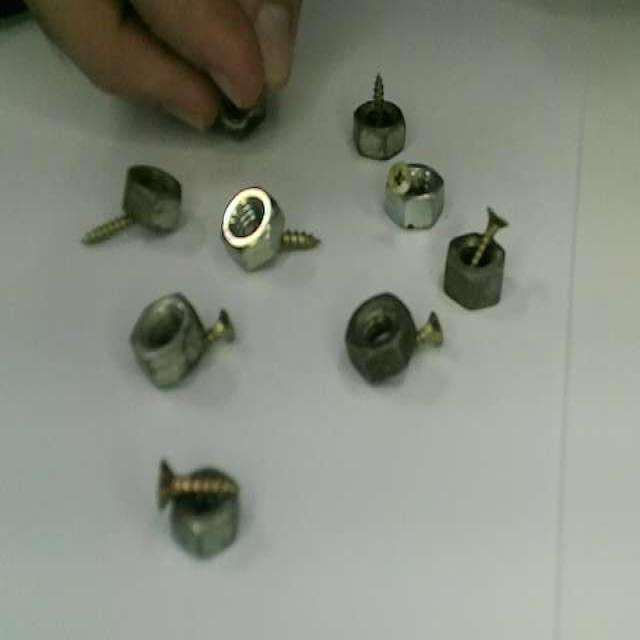Parafuso: (157, 460, 238, 509), (470, 207, 507, 267), (83, 216, 139, 245), (371, 73, 390, 127), (388, 162, 416, 195), (207, 309, 234, 341), (416, 312, 442, 343), (280, 229, 320, 249)
Porca: (129, 295, 209, 390), (343, 293, 414, 381), (171, 469, 240, 557), (219, 188, 288, 268), (442, 234, 504, 308), (124, 164, 183, 232), (384, 165, 444, 229), (353, 96, 406, 159), (217, 93, 266, 137)
